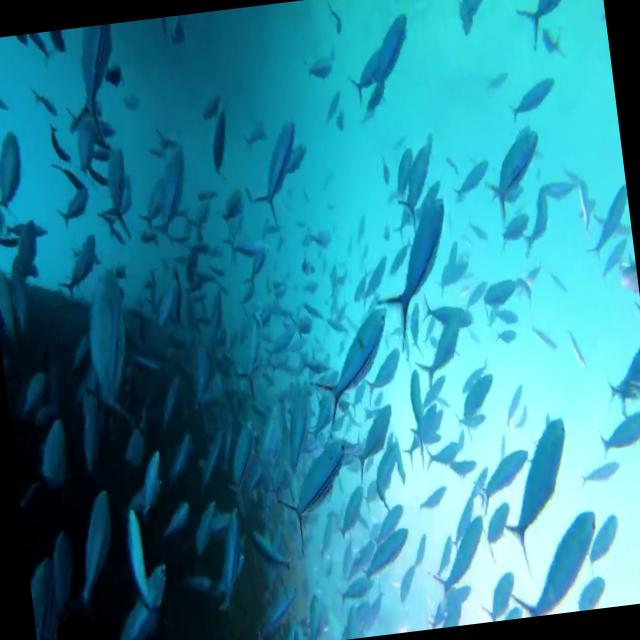fish: (495, 412, 582, 574), (368, 195, 460, 347), (502, 508, 606, 619), (73, 263, 135, 432), (307, 311, 398, 422), (276, 440, 356, 551), (344, 10, 416, 109), (245, 119, 308, 228), (480, 123, 548, 217), (424, 524, 490, 600), (346, 403, 399, 483), (411, 320, 466, 392), (354, 528, 415, 588), (98, 148, 138, 238), (515, 0, 580, 48)
